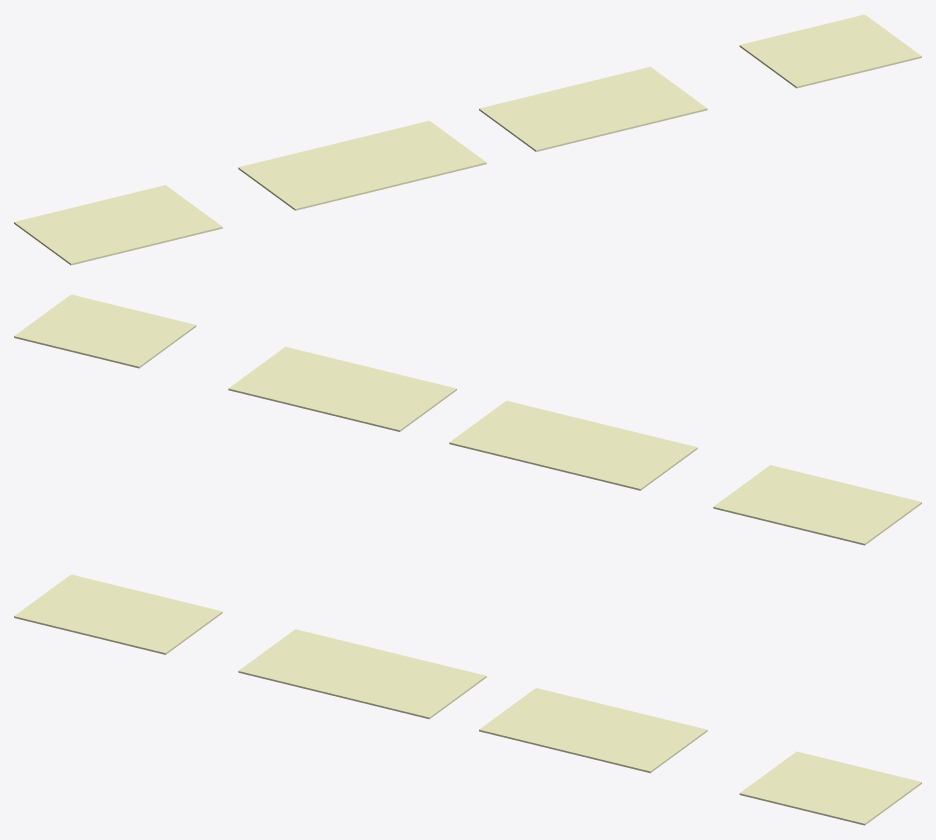
File: marking_stop_line_worn.glb
3 renders of one model, top to bottom at view 1: azimuth 30°, elevation 25°; view 2: azimuth 150°, elevation 25°; view 3: azimuth 330°, elevation 25°, orthographic.
Visible parts, largest first — view 1: segment_1, segment_2, segment_0, segment_3; view 2: segment_1, segment_2, segment_0, segment_3; view 3: segment_1, segment_2, segment_0, segment_3.
Boxes of the visible parts, x1,y1,x2,y2 form: segment_1: (238,120,486,210); segment_2: (479,66,707,151); segment_0: (14,185,222,265); segment_3: (739,14,921,88); segment_1: (449,400,697,490); segment_2: (228,346,456,431); segment_0: (713,465,921,545); segment_3: (14,294,196,368); segment_1: (238,629,486,719); segment_2: (479,688,707,773); segment_0: (14,574,222,654); segment_3: (739,751,921,825).
Size of the model in its own units: 2.58 by 0.005 by 0.3.
